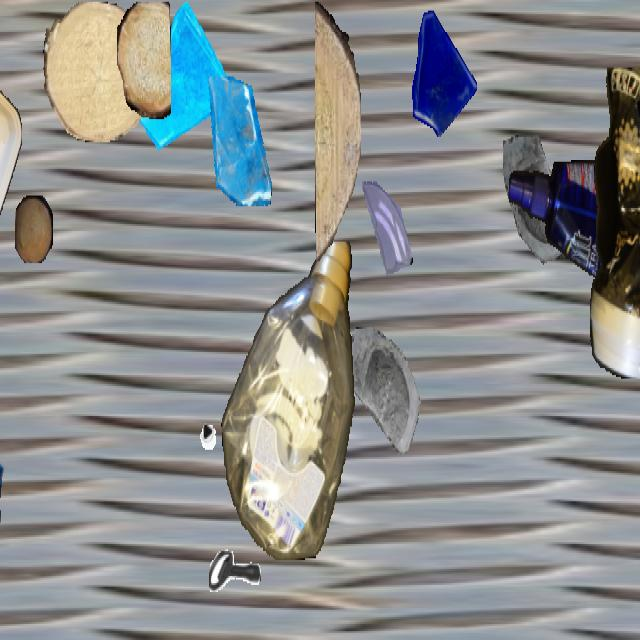glass: (140, 2, 230, 162), (501, 135, 587, 288), (349, 323, 433, 473), (403, 2, 479, 137), (202, 76, 274, 205), (357, 180, 415, 282)
metal: (163, 354, 221, 457), (209, 528, 261, 620), (0, 438, 20, 540)
plastic: (221, 242, 357, 558), (509, 160, 640, 306), (590, 67, 640, 377), (0, 18, 22, 270)
wood: (43, 2, 149, 140), (315, 2, 361, 261), (117, 2, 171, 119), (15, 196, 53, 263)
